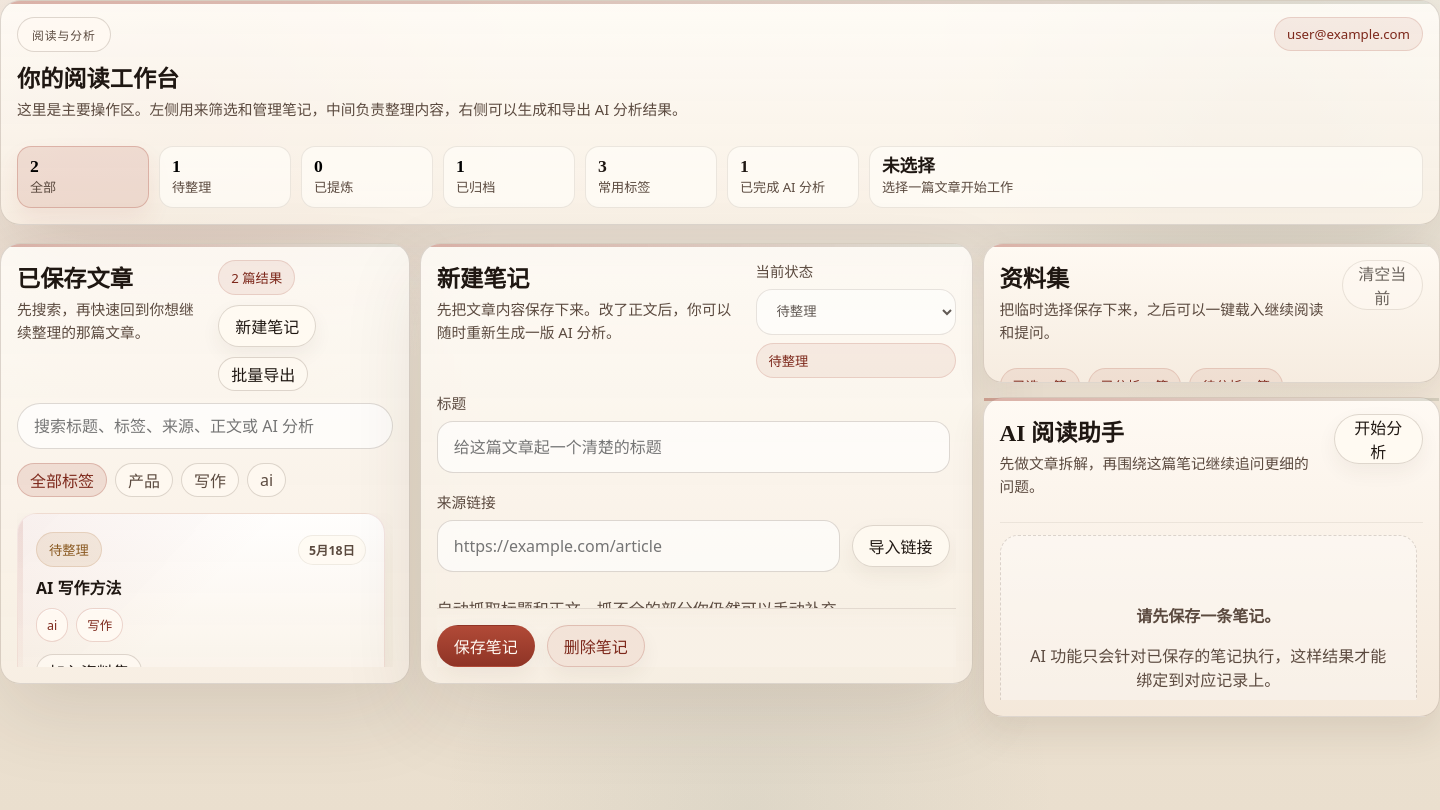
Test: NotesWorkspace › switches into batch export mode and hides collection buttons
The width and height of the screenshot is (1440, 810).
Click the button "批量导出": [263, 374] box [218,357,308,391]
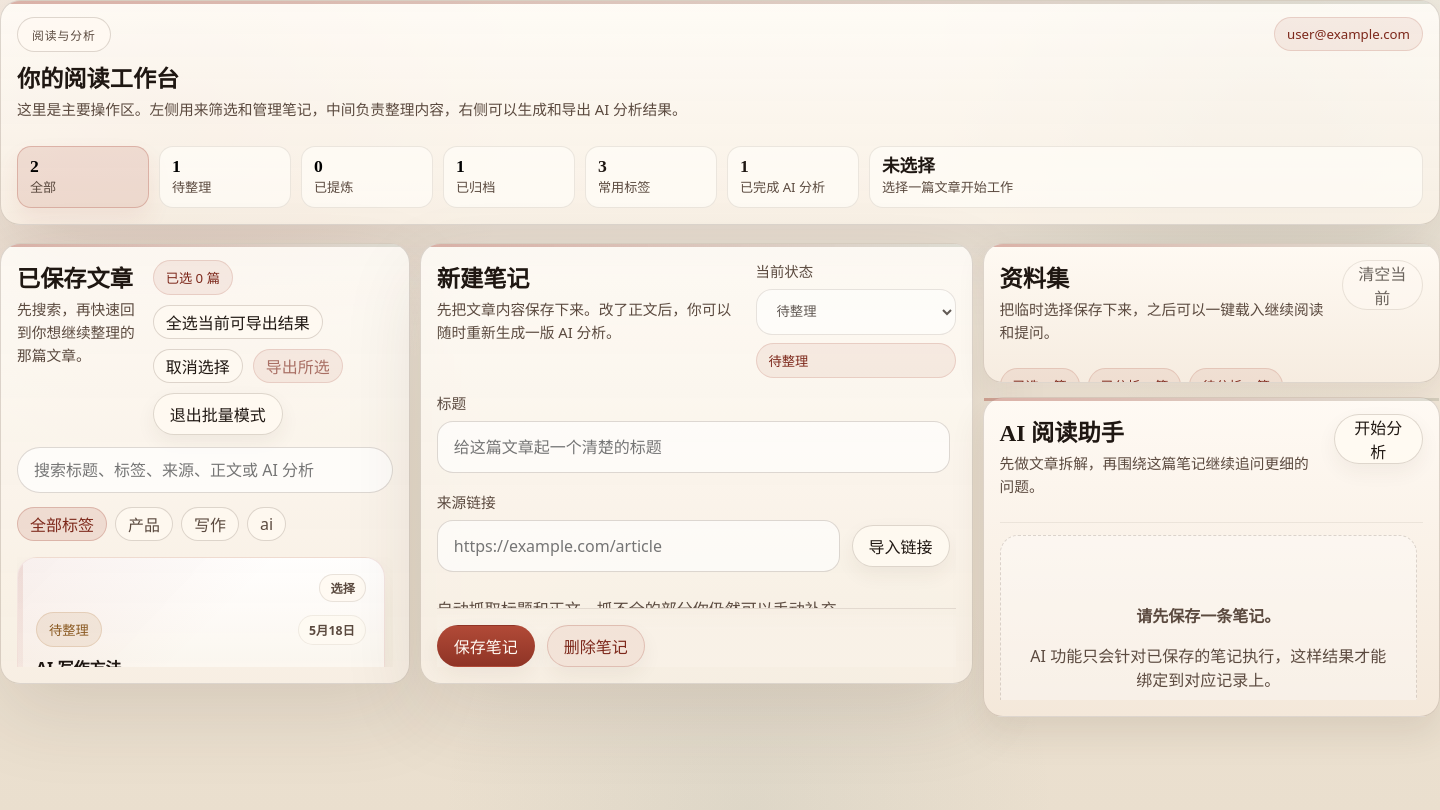
Now the button "退出批量模式" is shown, box [153,393,283,435]
Now the button "加入资料集" is gone
